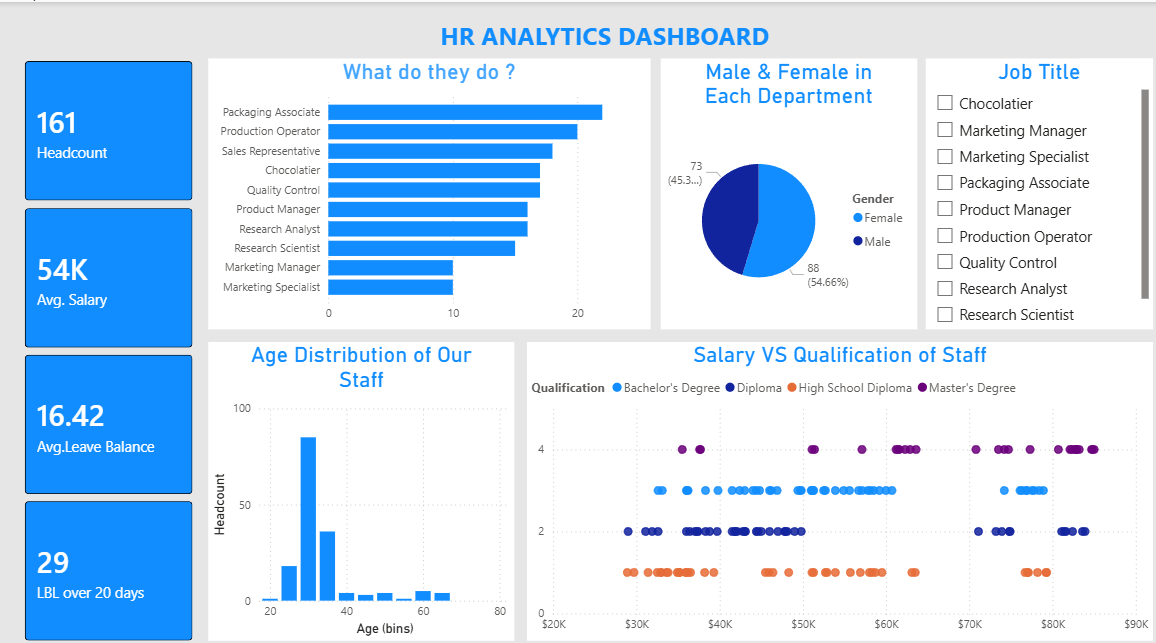

The dashboard page shown, as its layout file describes it:
{"tool":"powerbi","page":{"name":"HR -1","canvas":[1280,720],"ordinal":0},"visuals":[{"type":"cardVisual","fields":{"Data":["staff.Headcount","staff.Avg. Salary","staff.Avg.Leave Balance","staff.LBL over 20 days"]},"box":[13.7,48,218.2,672.4],"z":0},{"type":"clusteredBarChart","title":"What do they do ?","fields":{"Category":["staff.Job Title"],"Y":["staff.Headcount"]},"box":[231.9,61.7,485.8,297.8],"z":1000},{"type":"pieChart","title":" Male & Female in Each Department","fields":{"Category":["staff.Gender"],"Y":["staff.Headcount"]},"box":[728.6,61.7,281.3,297.8],"z":2000},{"type":"slicer","title":"        Job Title","fields":{"Values":["staff.Job Title"]},"box":[1019.6,61.7,249.7,297.8],"z":3000},{"type":"clusteredColumnChart","title":"Age Distribution of Our Staff","fields":{"Category":["staff.Age (bins)"],"Y":["staff.Headcount"]},"box":[231.9,373.2,336.2,328],"z":4000},{"type":"scatterChart","title":"Salary VS Qualification of Staff","fields":{"X":["staff.Salary"],"Y":["Qualification.Qualification ID"],"Series":["Qualification.Qualification"]},"box":[581.8,373.2,687.5,328],"z":5000},{"type":"textbox","box":[123.5,13.7,1062.1,48],"z":5002}]}

Visuals, with their boxes in screenshot pixels (x1, y1, x2, y2), scaled from the page's 1280x720 canvas onto the 1156x643 screenshot:
cardVisual - staff.Headcount x staff.Avg. Salary: pyautogui.locateOnScreen(12, 43, 209, 642)
"What do they do ?" clusteredBarChart: pyautogui.locateOnScreen(209, 55, 648, 321)
" Male & Female in Each Department" pieChart: pyautogui.locateOnScreen(658, 55, 912, 321)
"        Job Title" slicer: pyautogui.locateOnScreen(921, 55, 1146, 321)
"Age Distribution of Our Staff" clusteredColumnChart: pyautogui.locateOnScreen(209, 333, 513, 626)
"Salary VS Qualification of Staff" scatterChart: pyautogui.locateOnScreen(525, 333, 1146, 626)
textbox: pyautogui.locateOnScreen(112, 12, 1071, 55)
